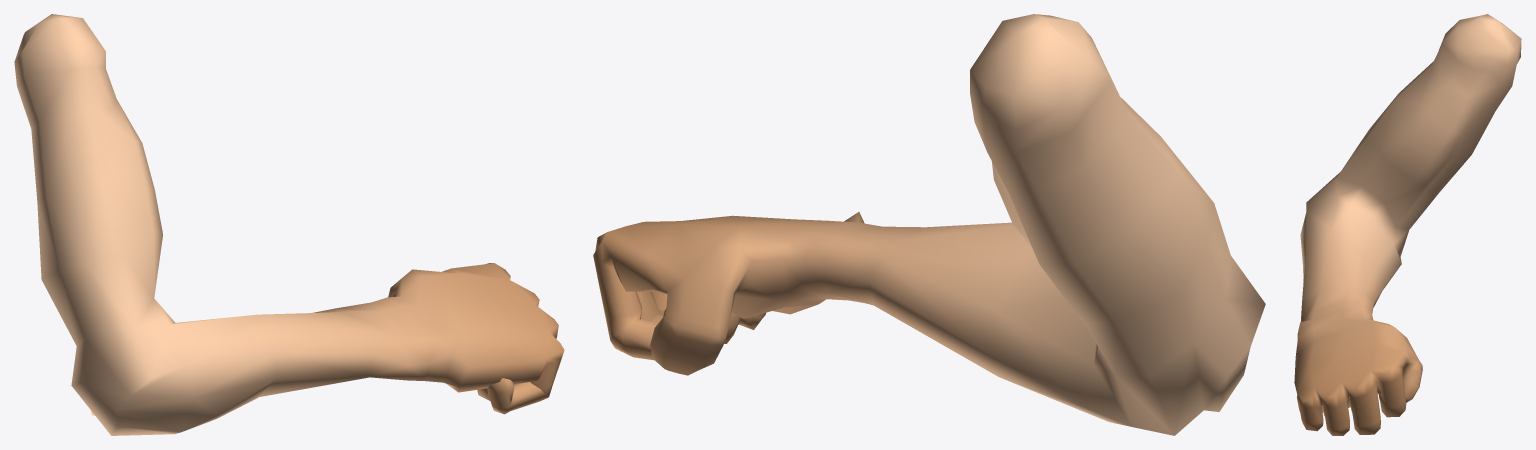
File: Arm1.fbx
The picture shows the model from 3 angles, left to right: view 1: azimuth 30°, elevation 25°; view 2: azimuth 150°, elevation 25°; view 3: azimuth 270°, elevation 25°; orthographic projection. The views are drawn at different scales.
Parts seen in each view (by area): view 1: Arm_Mesh_R; view 2: Arm_Mesh_R; view 3: Arm_Mesh_R.
Part boxes in pixels (x1,y1,x2,y2): Arm_Mesh_R: (14, 14, 564, 435); Arm_Mesh_R: (593, 14, 1265, 435); Arm_Mesh_R: (1294, 14, 1521, 435).
Size of the model in its own units: 1.11 by 0.8967 by 0.6462.
1 material, 1 textured.
